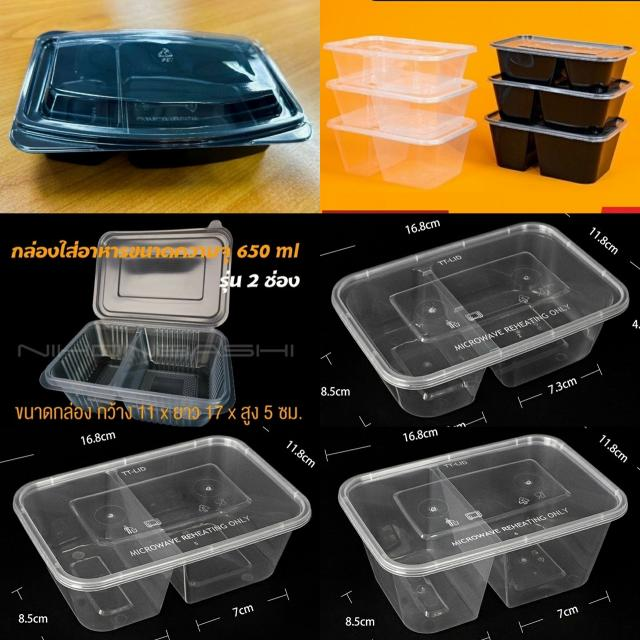Single-Use-Plastic: (14, 436, 311, 631), (338, 435, 627, 633), (333, 224, 628, 416), (10, 29, 311, 168), (40, 220, 235, 426), (327, 116, 477, 189), (485, 111, 627, 184), (324, 36, 477, 94), (327, 79, 477, 138), (489, 74, 633, 132), (490, 35, 635, 92)
